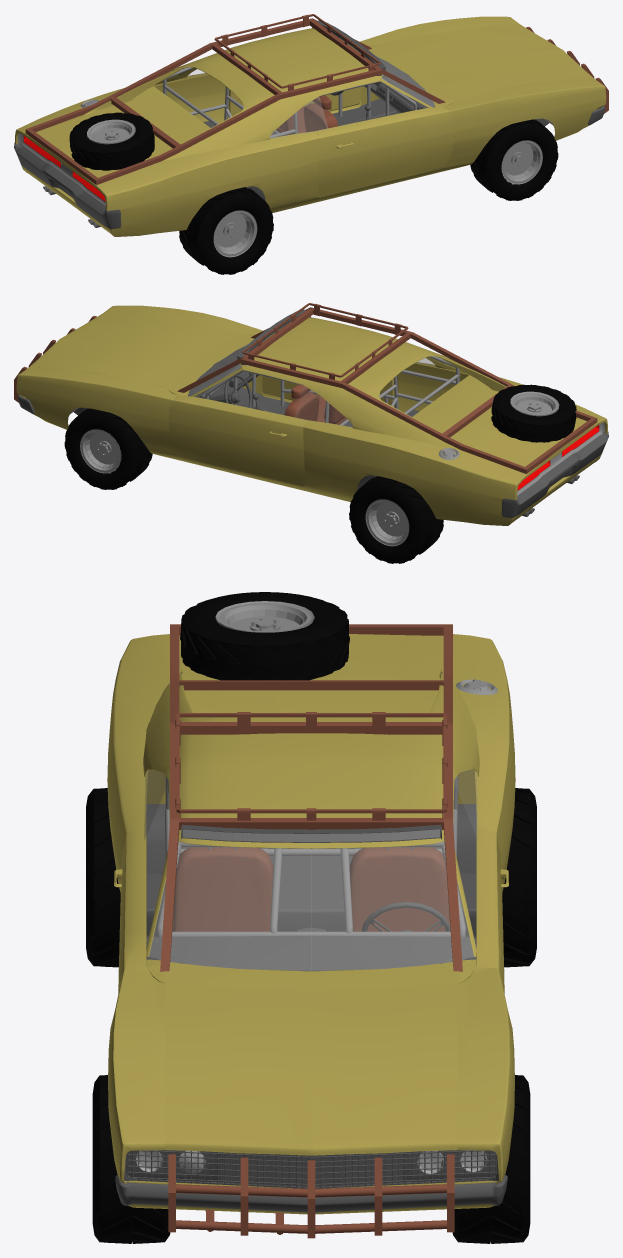
File: Dodge Charger.fbx
The picture shows the model from 3 angles, top to bottom: view 1: azimuth 30°, elevation 25°; view 2: azimuth 150°, elevation 25°; view 3: azimuth 270°, elevation 25°; orthographic projection. The views are drawn at different scales.
Visible parts, largest first — view 1: Charger; view 2: Charger; view 3: Charger.
Boxes of the visible parts, x1,y1,x2,y2 form: Charger: (14,14,608,274); Charger: (14,303,608,563); Charger: (86,592,536,1243).
Bounding box in the file's own units: 30.76 × 8.82 × 11.53.
